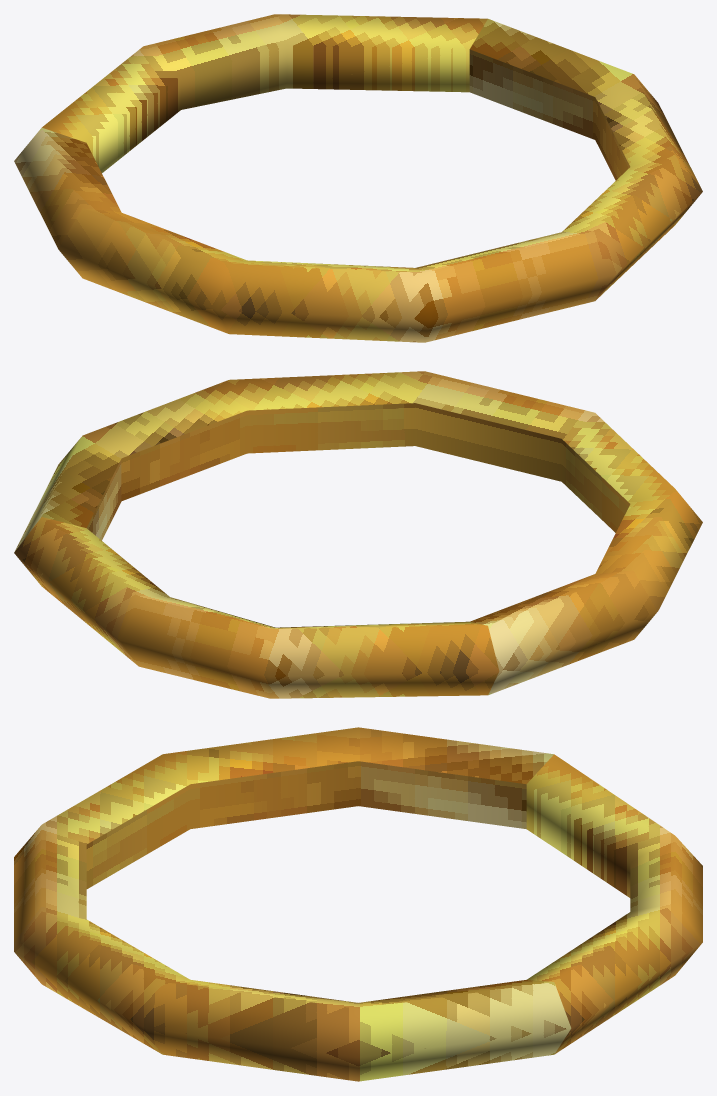
File: jw_ring.glb
The picture shows the model from 3 angles, top to bottom: view 1: azimuth 30°, elevation 25°; view 2: azimuth 150°, elevation 25°; view 3: azimuth 270°, elevation 25°; orthographic projection. The views are drawn at different scales.
Visible parts, largest first — view 1: jw_ring; view 2: jw_ring; view 3: jw_ring.
Part boxes in pixels (bbox=[...]): jw_ring: bbox=[14, 14, 702, 342]; jw_ring: bbox=[14, 371, 702, 698]; jw_ring: bbox=[14, 727, 702, 1081].
Size of the model in its own units: 0.0456 by 0.00506 by 0.0434.
1 material, 1 textured.
